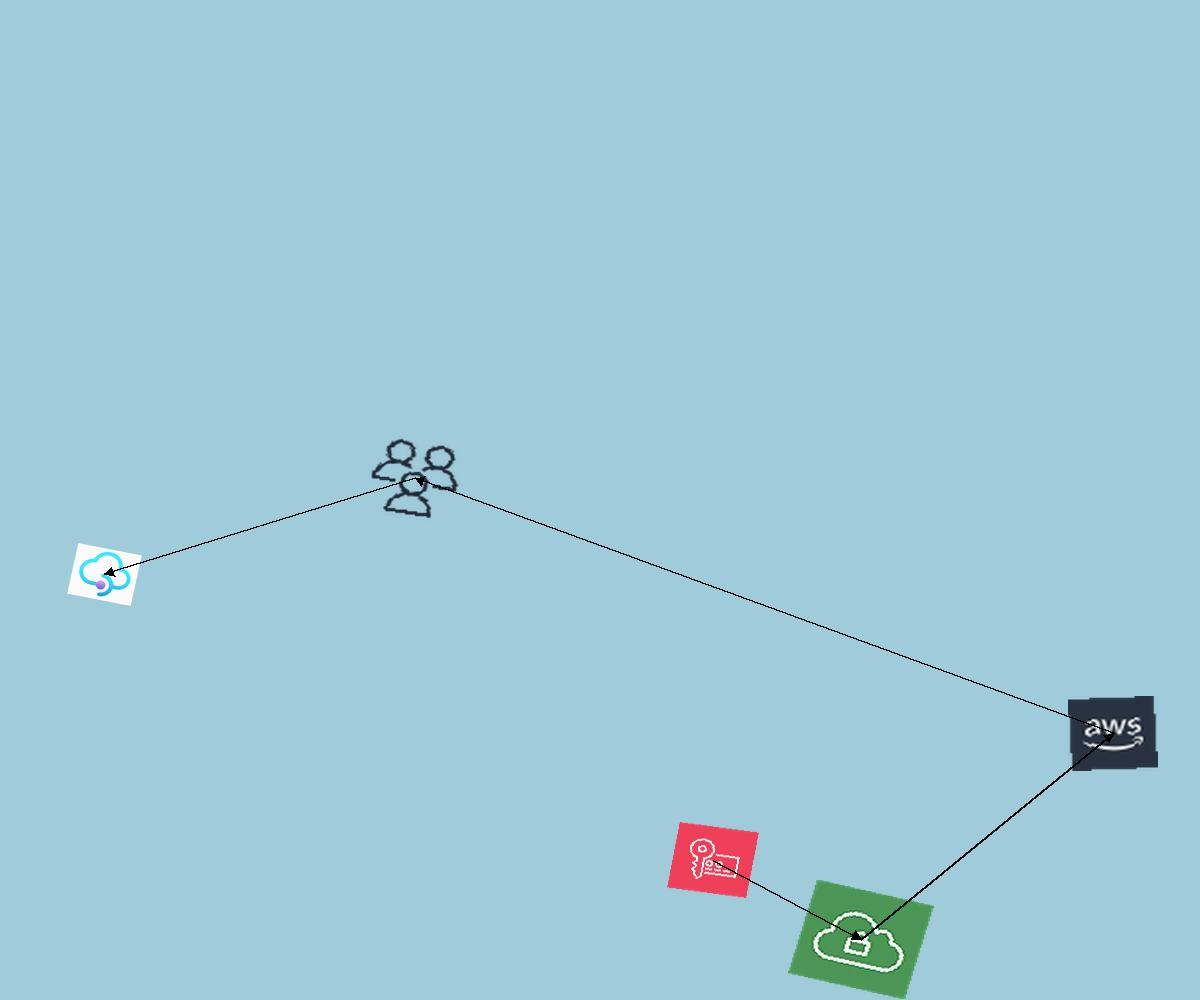AWS-Cloud-logo: (1068, 696, 1158, 771)
AWS-Key-Management-Service: (667, 822, 759, 898)
AWS-Private_vpc: (788, 879, 934, 1000)
AWS-Res_Users: (358, 431, 472, 526)
Azure_api_gateway: (67, 543, 142, 606)
